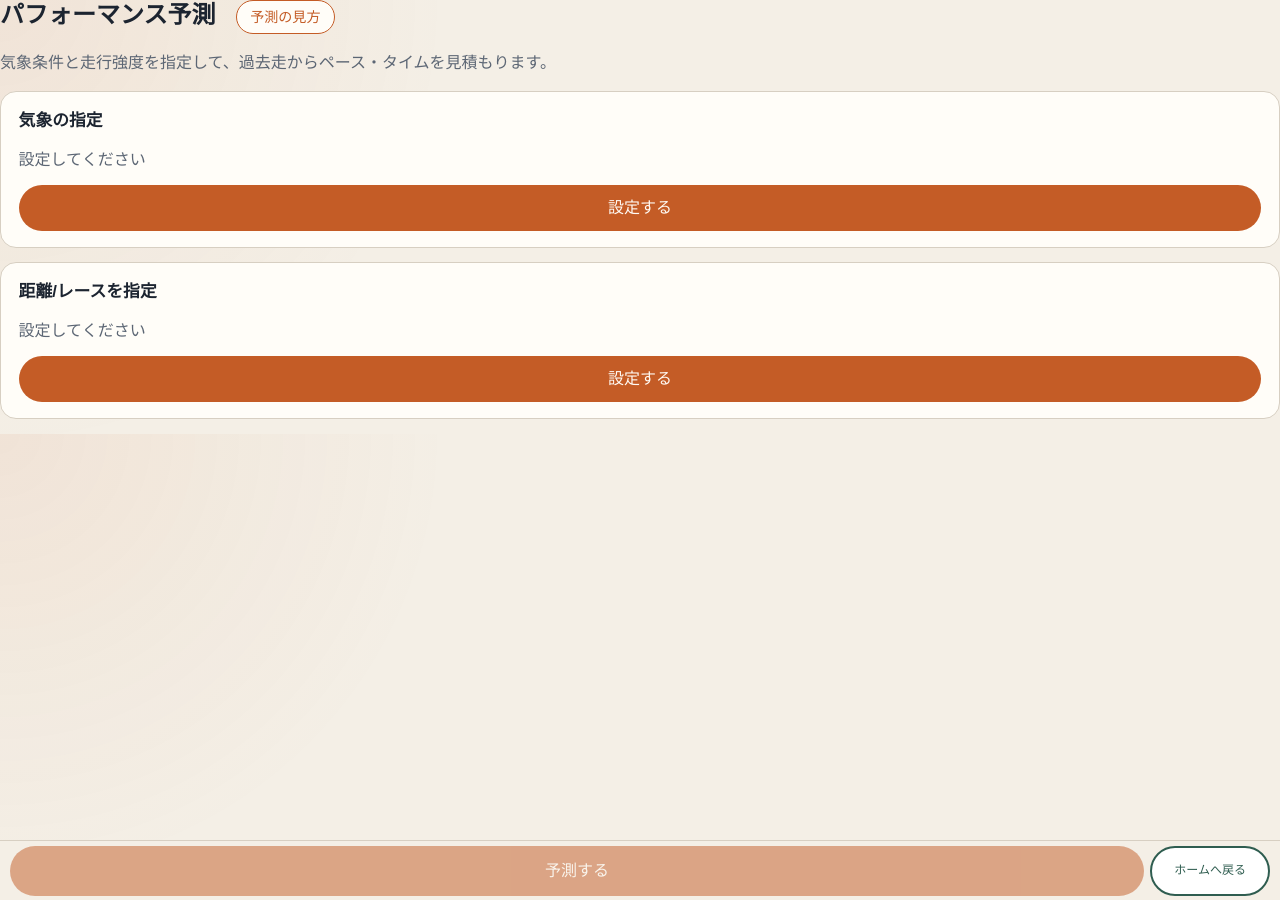
予測フォーム › 予報を選ぶと気温と湿度は disabled のまま残る
Check: the button "予測する" is shown, box [10,846,1144,896]
Click the button "設定する" below "気象の指定". click: (640, 208)
box: [19,185,1261,231]
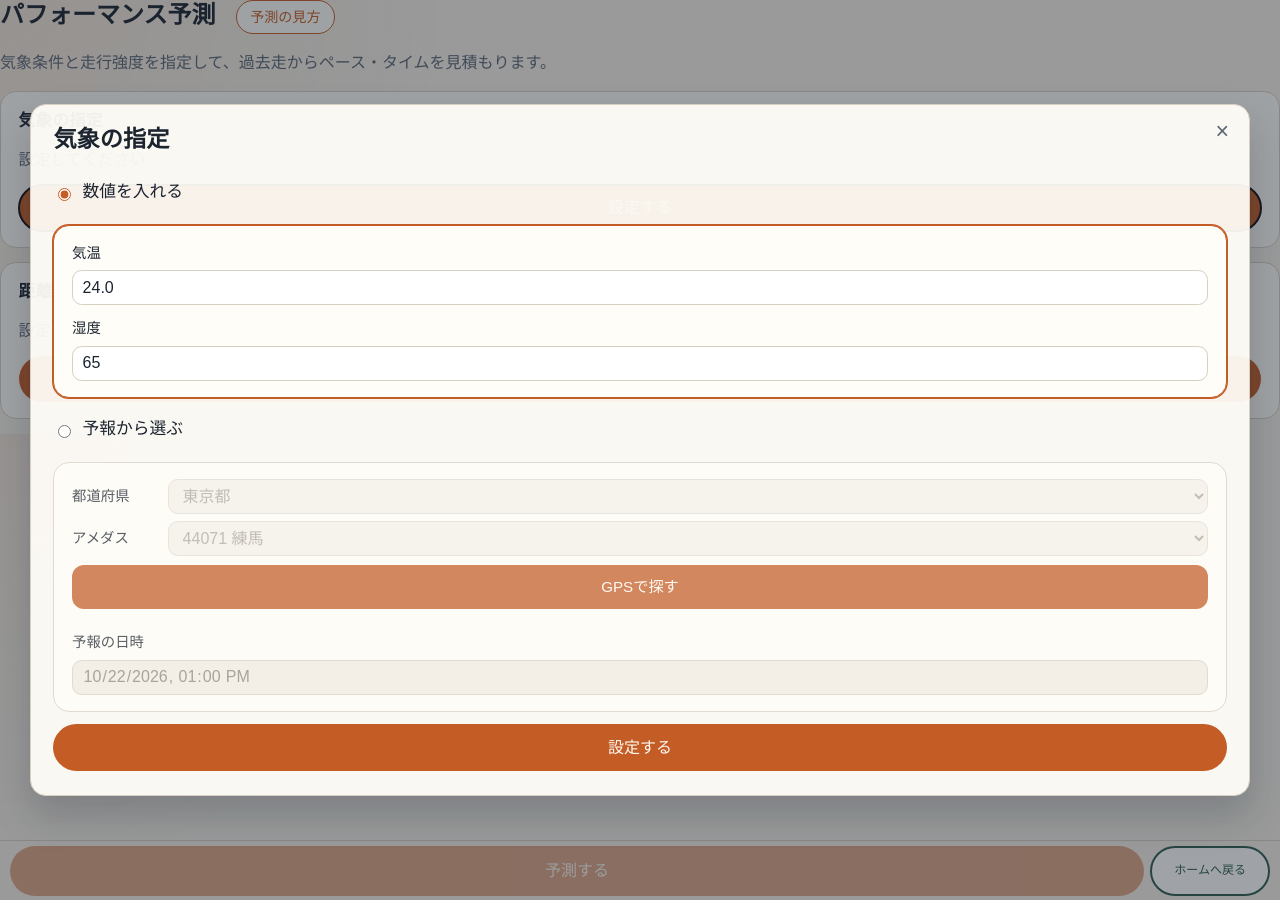
Check: the number field labelled "気温" is enabled, box [72,270,1208,305]
Click the radio button labelled "予報から選ぶ". click: (65, 431)
box: [58,414,71,449]
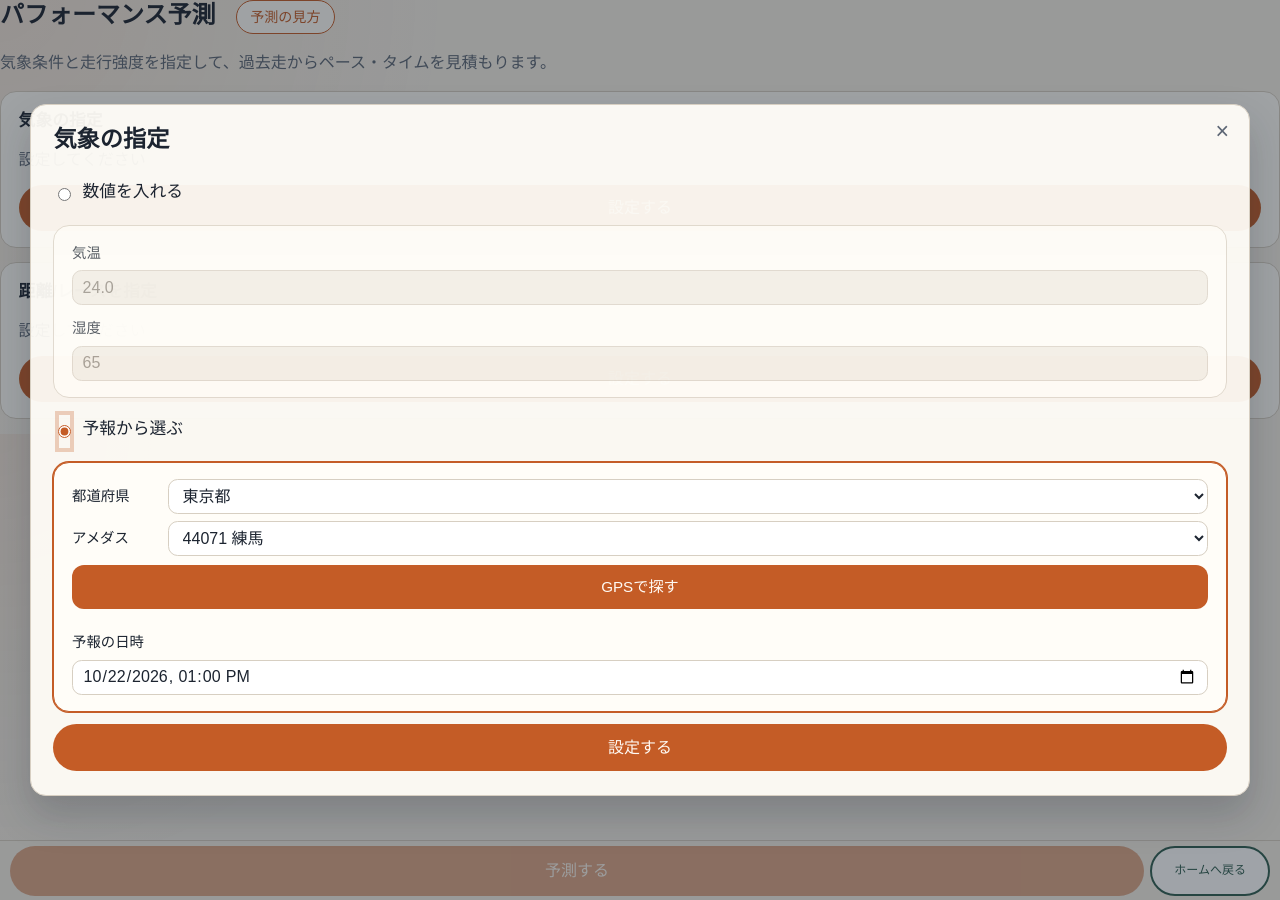
Check: the number field labelled "気温" is disabled, box [72,270,1208,305]
Check: the number field labelled "湿度" is disabled, box [72,346,1208,381]
Check: the dropdown labelled "アメダス" is enabled, box [168,521,1208,556]
